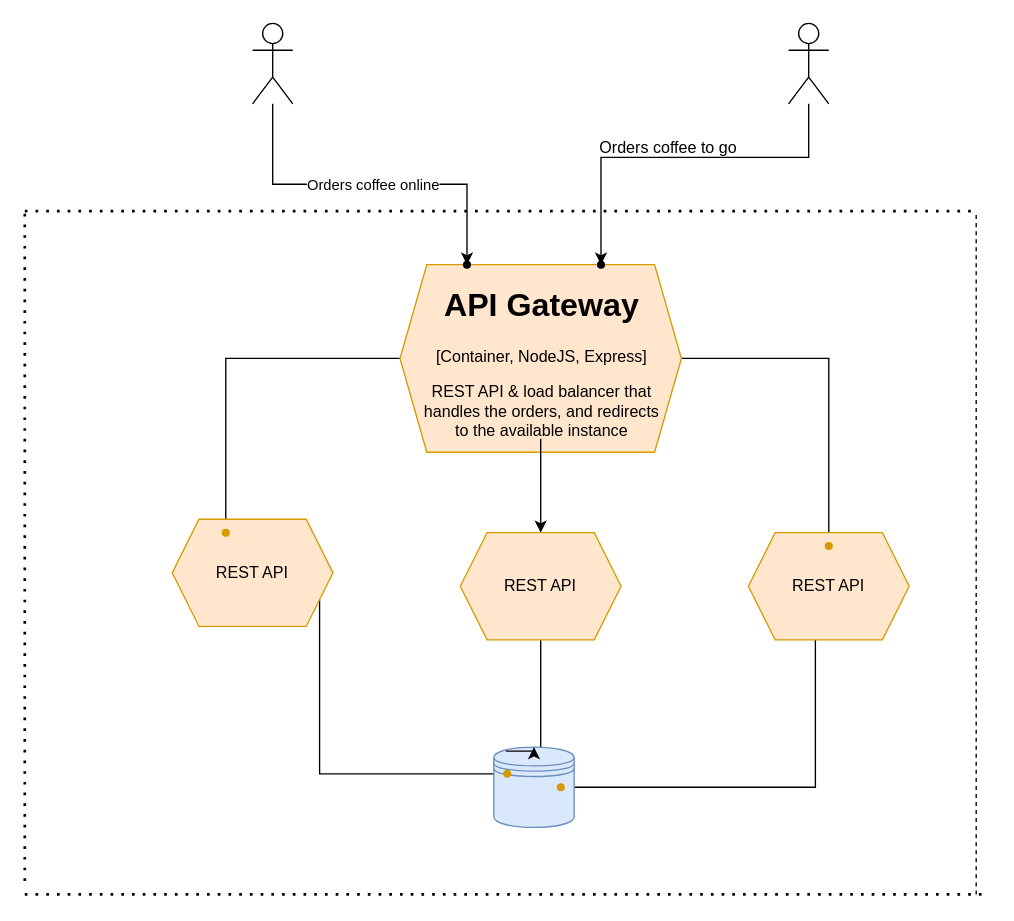
The diagram is 1014 pixels wide and 921 high, and some of its shapes have lost their labels. The box of each missing label's shape, as (x1, y1, x2, y2) in pixels:
Coffe to go: (787, 22, 829, 104)
Web UI: (251, 22, 293, 104)
